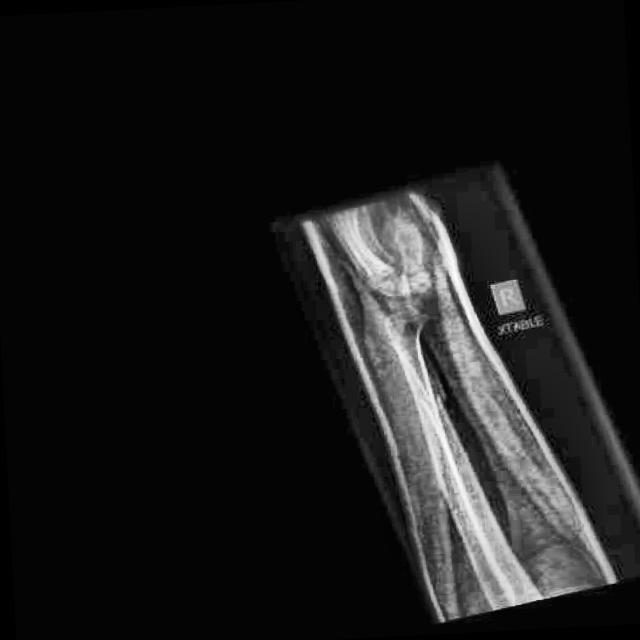forearm fracture: (395, 359, 475, 436)
